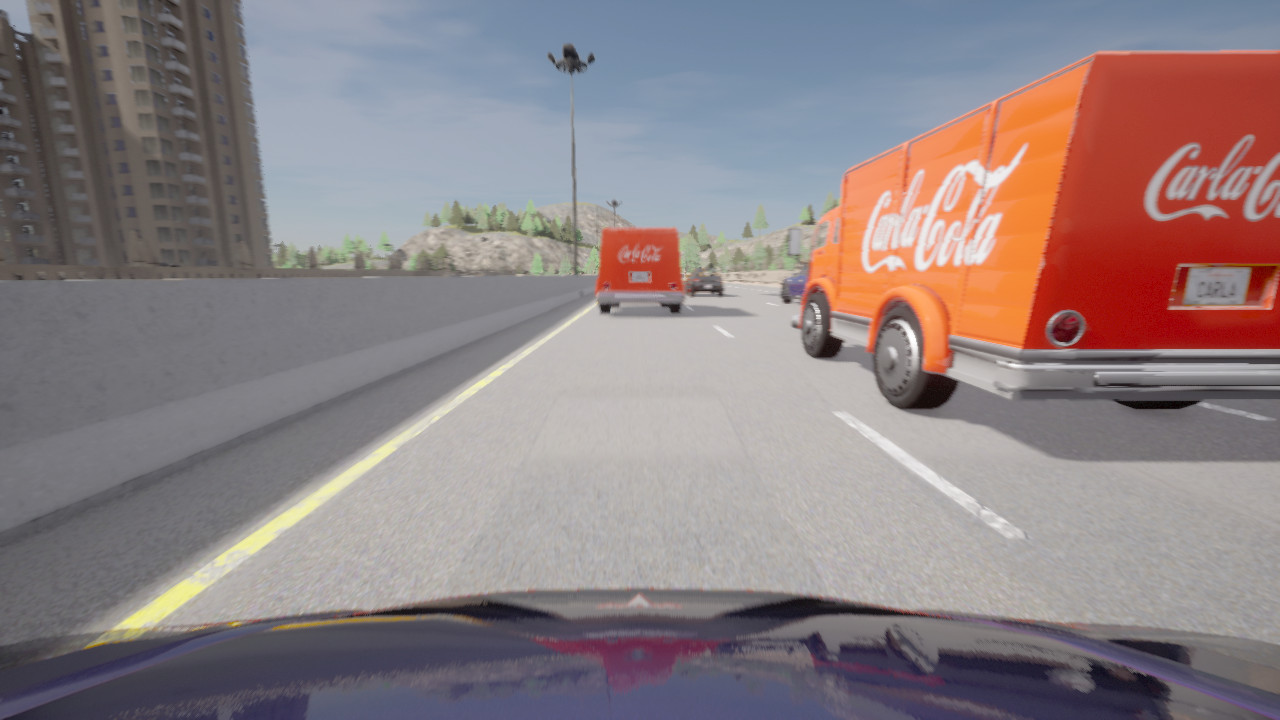cyclist: (787, 50, 1279, 409), (0, 588, 1279, 719), (596, 227, 684, 313), (684, 269, 722, 296), (781, 263, 807, 302)
